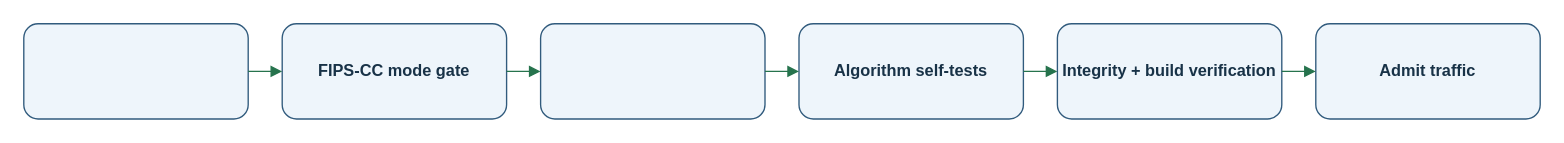
Image size: 1564x143. Some labels were removed from this diagram. The shapes that lost their labels are listed below. From the top down, each one's centre as x and y in pixels, then its label:
At point 135,70: "Matching FIPS-CC image".
At point 652,70: "CPU-jitter entropy".
